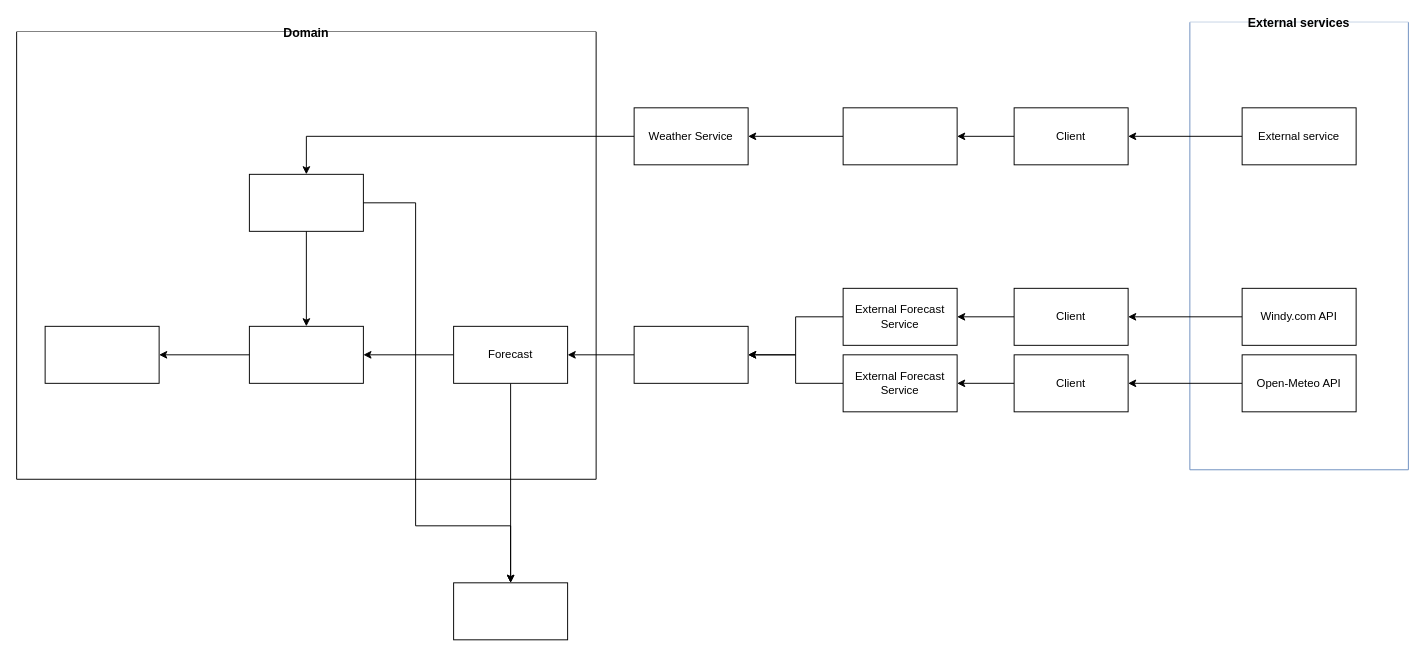
Image size: 1425x656. Some labels were removed from this diagram. The centre of each missing label's shape, as x and y in pixels:
"External Weather Service" goes at (x=899, y=136).
"Forecast Analysis" goes at (x=305, y=354).
"Forecast Service" goes at (x=690, y=354).
"Repository" goes at (x=510, y=611).
"Weather Conditions" goes at (x=305, y=202).
"Winning Forecast Model" goes at (x=101, y=354).
